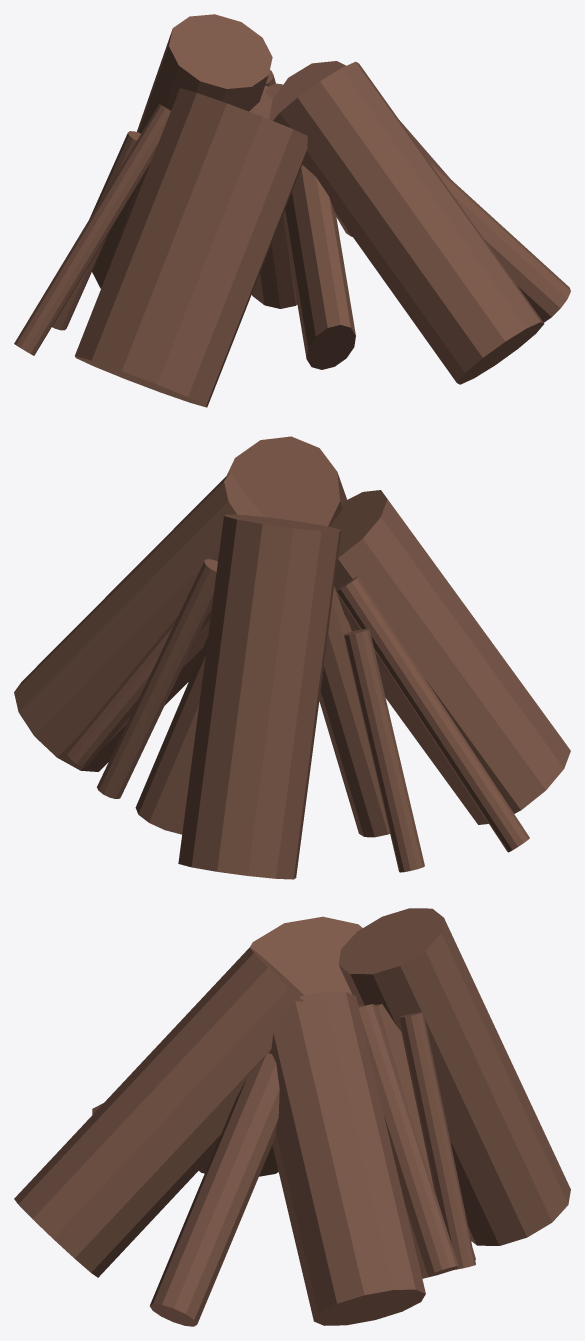
File: campfire-off.glb
3 renders of one model, top to bottom at view 1: azimuth 30°, elevation 25°; view 2: azimuth 150°, elevation 25°; view 3: azimuth 270°, elevation 25°, orthographic. The views are drawn at different scales.
Visible parts, largest first — view 1: group1729056877, group1178339018, group1836475986, group545318399, group2044495118, group1106303713, group2138509543, group238861364, group2016487535; view 2: group1836475986, group1729056877, group238861364, group2044495118, group1178339018, group713675892, group2016487535, group1676066007, group2138509543, group1705921640; view 3: group1178339018, group238861364, group1836475986, group1106303713, group1705921640, group1676066007, group1729056877, group2138509543.
Boxes of the visible parts, box(x1,y1,x2,y2) form: group1729056877: box(75, 88, 307, 407); group1178339018: box(273, 61, 544, 384); group1836475986: box(92, 14, 272, 288); group545318399: box(283, 165, 355, 369); group2044495118: box(14, 104, 170, 355); group1106303713: box(425, 156, 570, 322); group2138509543: box(249, 85, 297, 308); group238861364: box(269, 61, 450, 178); group2016487535: box(52, 131, 140, 330); group1836475986: box(178, 514, 341, 879); group1729056877: box(329, 490, 570, 824); group238861364: box(14, 472, 262, 771); group2044495118: box(335, 576, 529, 852); group1178339018: box(226, 436, 346, 526); group713675892: box(319, 586, 389, 837); group2016487535: box(343, 628, 424, 872); group1676066007: box(97, 559, 217, 798); group2138509543: box(135, 636, 208, 834); group1705921640: box(66, 606, 211, 766); group1178339018: box(14, 947, 303, 1277); group238861364: box(269, 992, 425, 1325); group1836475986: box(338, 908, 570, 1245); group1106303713: box(150, 1053, 279, 1326); group1705921640: box(359, 1004, 458, 1276); group1676066007: box(398, 1012, 475, 1269); group1729056877: box(199, 916, 362, 1176); group2138509543: box(358, 1004, 475, 1278).
Size of the model in its own units: 0.443 by 0.2765 by 0.4339.
